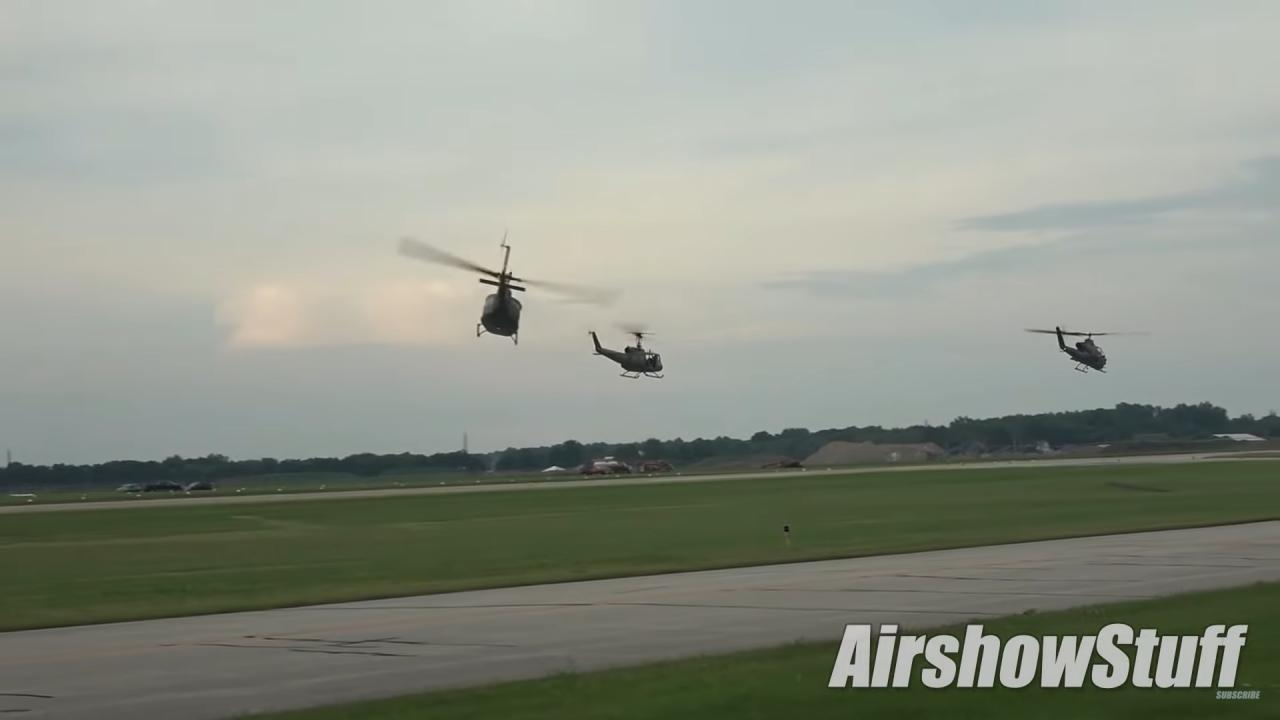Helicopter: (383, 221, 630, 353), (1010, 312, 1153, 386), (561, 310, 685, 391)
